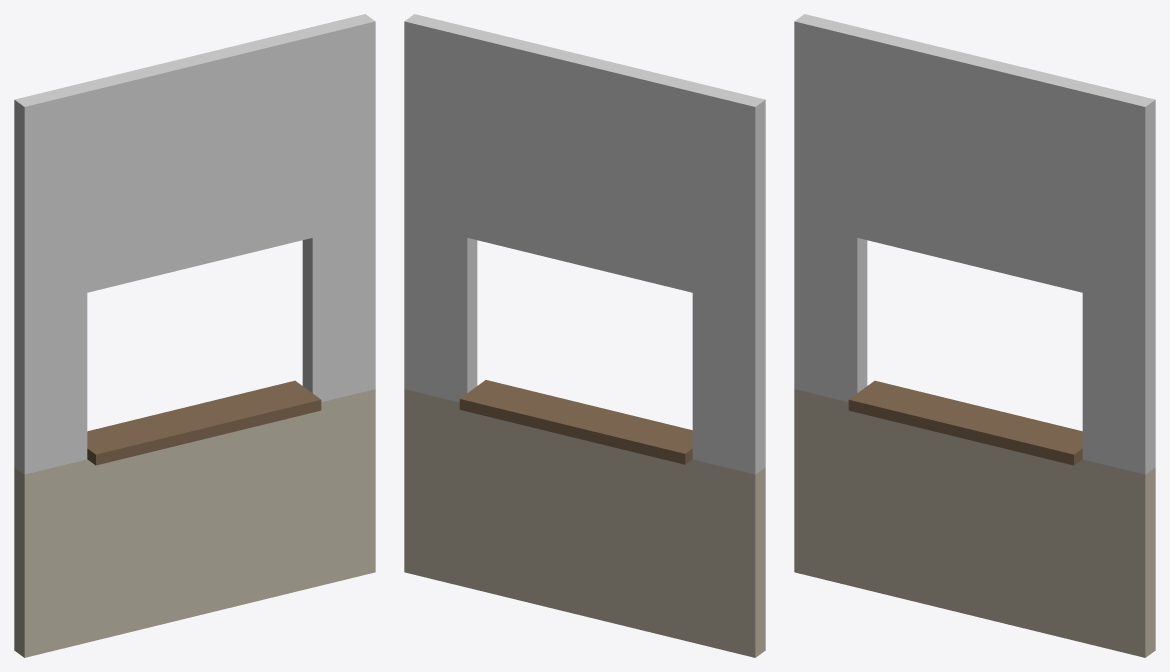
The model's file is Mesh_Wall2Colors_B3.fbx.
The picture shows the model from 3 angles, left to right: view 1: azimuth 30°, elevation 25°; view 2: azimuth 150°, elevation 25°; view 3: azimuth 330°, elevation 25°; orthographic projection.
Parts seen in each view (by area): view 1: Mesh_Wall2Colors_B3; view 2: Mesh_Wall2Colors_B3; view 3: Mesh_Wall2Colors_B3.
Boxes of the visible parts, bbox=[...] form: Mesh_Wall2Colors_B3: bbox=[14, 14, 375, 657]; Mesh_Wall2Colors_B3: bbox=[404, 14, 765, 657]; Mesh_Wall2Colors_B3: bbox=[794, 14, 1155, 657].
Size of the model in its own units: 2 by 3 by 0.2574.
